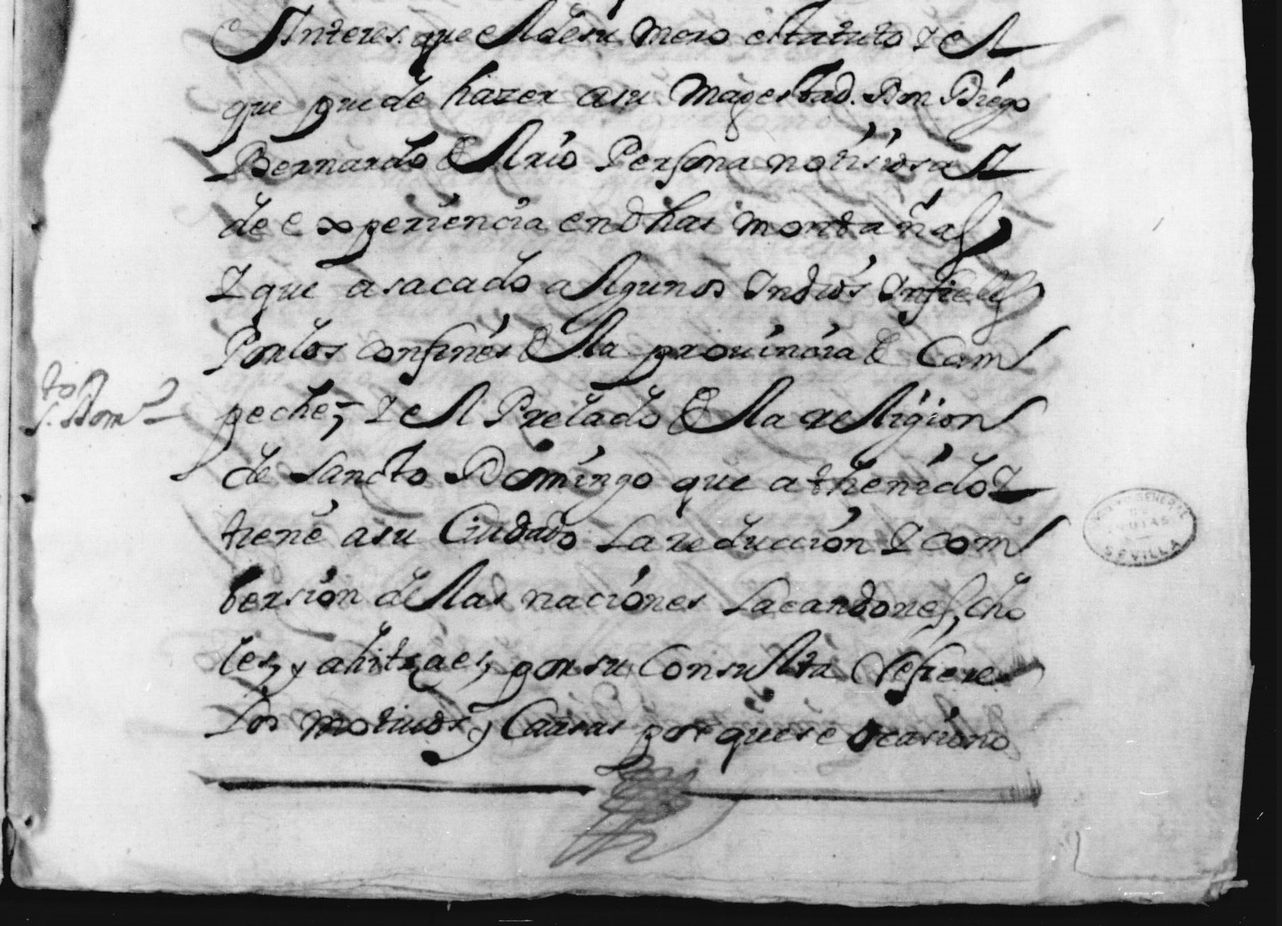lacandon: (722, 572, 987, 638)
